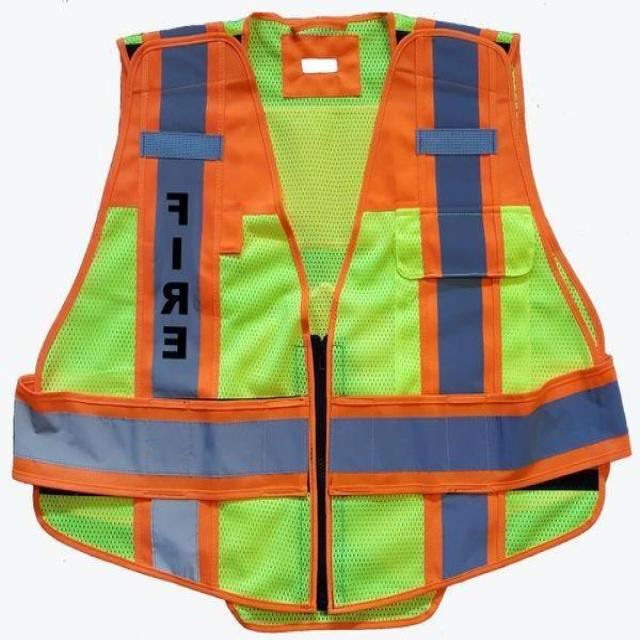Reflective-Jacket: (9, 6, 638, 628)
